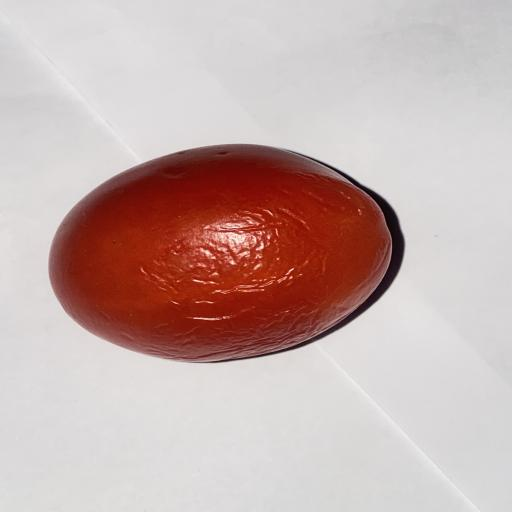spoiled: (50, 145, 391, 361)
